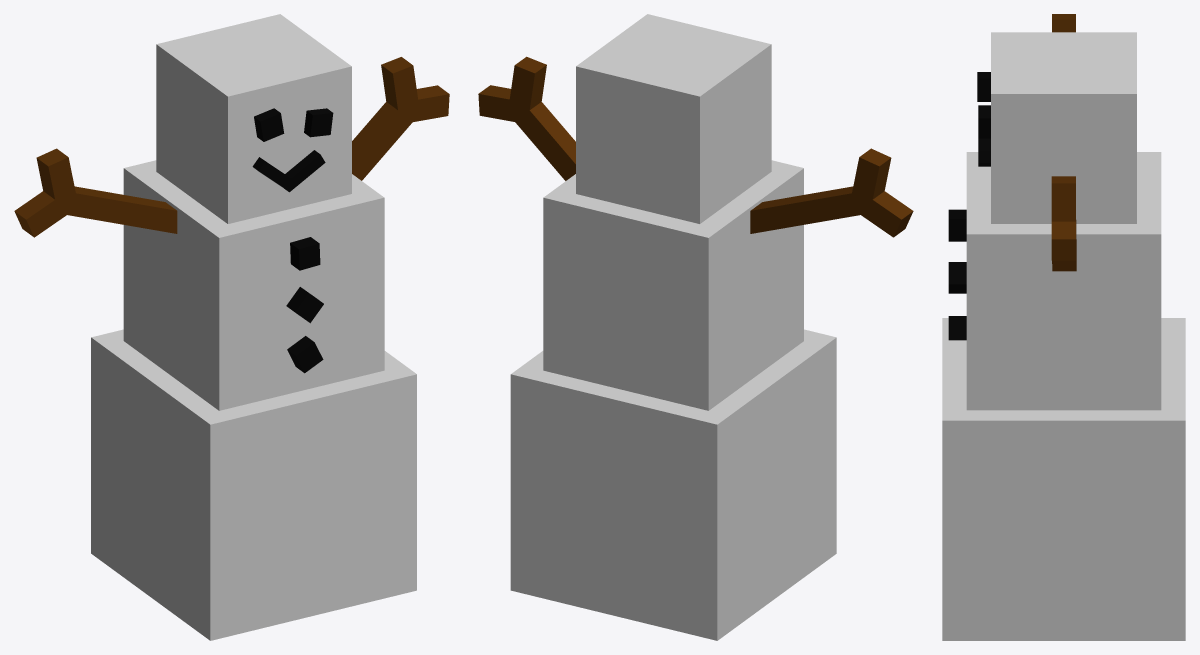
The model's file is snowman.fbx.
3 renders of one model, left to right at view 1: azimuth 30°, elevation 25°; view 2: azimuth 150°, elevation 25°; view 3: azimuth 270°, elevation 25°, orthographic.
Visible parts, largest first — view 1: BottomSnow, TopSnow, Head, RightArm, LeftArm, LeftArmFinger1, RightArmFinger1, RightArmFinger2, LeftArmFinger2, ButtonTop, ButtonBottom, RightEye (+3 smaller); view 2: BottomSnow, TopSnow, Head, RightArm, LeftArm, LeftArmFinger1, RightArmFinger1, RightArmFinger2, LeftArmFinger2; view 3: BottomSnow, TopSnow, Head, LeftArmFinger1, LeftArmFinger2, ButtonTop, ButtonMiddle, ButtonBottom, RightArmFinger1, LeftEye, RightEye.
Part boxes in pixels (x1,y1,x2,y2): BottomSnow: (91,329,416,640); TopSnow: (123,160,384,410); Head: (156,14,351,223); RightArm: (54,186,177,233); LeftArm: (352,97,422,180); LeftArmFinger1: (381,57,418,109); RightArmFinger1: (36,148,76,205); RightArmFinger2: (14,191,66,237); LeftArmFinger2: (413,85,449,121); ButtonTop: (290,237,320,270); ButtonBottom: (287,336,323,373); RightEye: (254,108,284,141); BottomSnow: (510,329,836,640); TopSnow: (543,160,803,410); Head: (576,14,771,223); RightArm: (750,186,873,233); LeftArm: (515,102,575,180); LeftArmFinger1: (509,56,546,114); RightArmFinger1: (852,148,891,206); RightArmFinger2: (855,191,913,237); LeftArmFinger2: (478,85,520,122); BottomSnow: (942,318,1185,640); TopSnow: (966,152,1161,410); Head: (991,32,1136,223); LeftArmFinger1: (1051,176,1075,221); LeftArmFinger2: (1051,221,1075,260); ButtonTop: (948,209,966,241); ButtonMiddle: (948,262,966,293); ButtonBottom: (948,316,966,340); RightArmFinger1: (1052,14,1075,32); LeftEye: (978,105,990,138); RightEye: (977,72,990,101).
Size of the model in its own units: 410 by 478 by 200.
